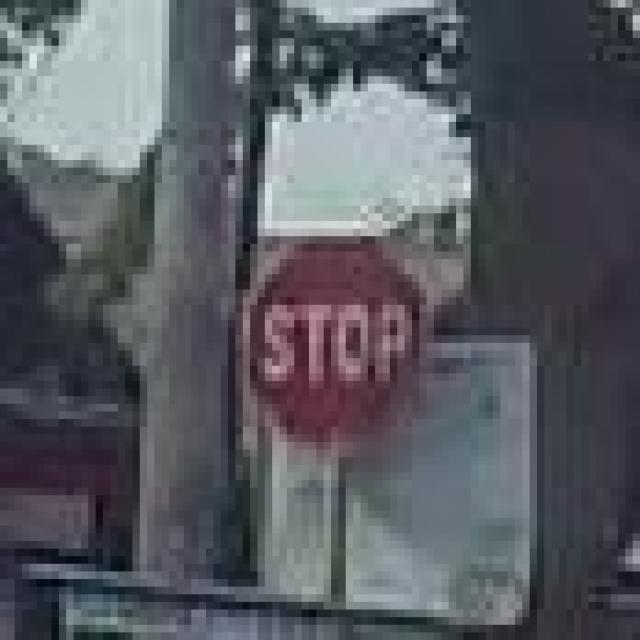traffic sign: (250, 236, 427, 457)
